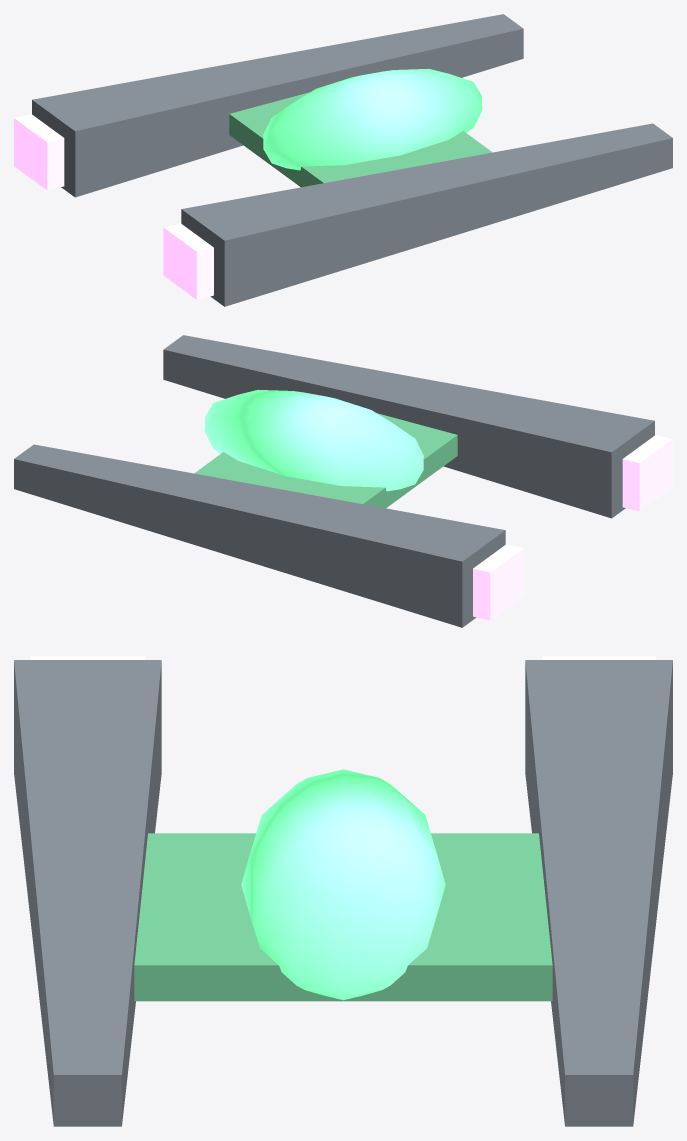
File: player_twin.glb
3 views of the same model, one above another, from view 1: azimuth 30°, elevation 25°; view 2: azimuth 150°, elevation 25°; view 3: azimuth 270°, elevation 25° (orthographic). The views are drawn at different scales.
Parts seen in each view (by area): view 1: player_twin; view 2: player_twin; view 3: player_twin.
Boxes of the visible parts, bbox=[...] form: player_twin: bbox=[14, 14, 672, 306]; player_twin: bbox=[14, 335, 672, 627]; player_twin: bbox=[14, 656, 672, 1126].
Bounding box in the file's own units: 1.68 × 0.32 × 1.16.
